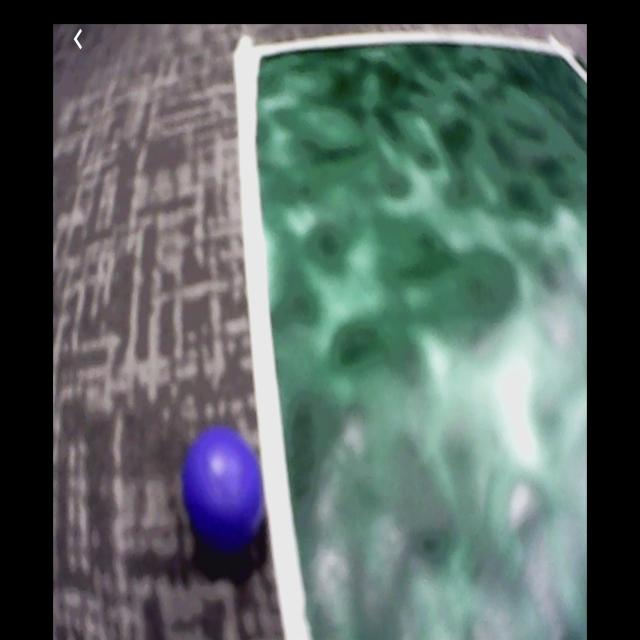ball: (184, 430, 264, 553)
